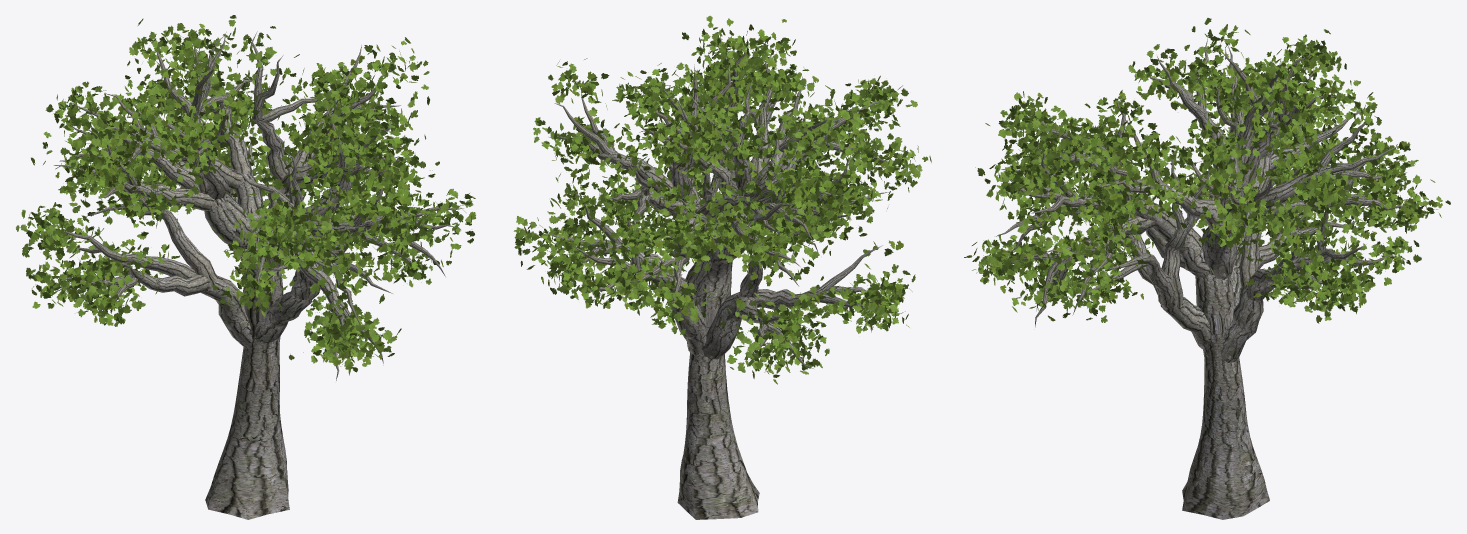
3 views of the same model, side by side, from view 1: azimuth 30°, elevation 25°; view 2: azimuth 150°, elevation 25°; view 3: azimuth 270°, elevation 25° (orthographic). The views are drawn at different scales.
Parts seen in each view (by area): view 1: Oak foliage cards, Oak_EasyTree_V017_Proof; view 2: Oak foliage cards, Oak_EasyTree_V017_Proof; view 3: Oak foliage cards, Oak_EasyTree_V017_Proof.
Boxes of the visible parts, x1=… form: Oak foliage cards: x1=16, y1=15, x2=475, y2=375; Oak_EasyTree_V017_Proof: x1=54, y1=31, x2=463, y2=519; Oak foliage cards: x1=513, y1=15, x2=931, y2=384; Oak_EasyTree_V017_Proof: x1=543, y1=36, x2=890, y2=519; Oak foliage cards: x1=964, y1=18, x2=1450, y2=323; Oak_EasyTree_V017_Proof: x1=996, y1=37, x2=1408, y2=519.
Size of the model in its own units: 7 by 7.78 by 7.73.
2 materials, 2 textured.
